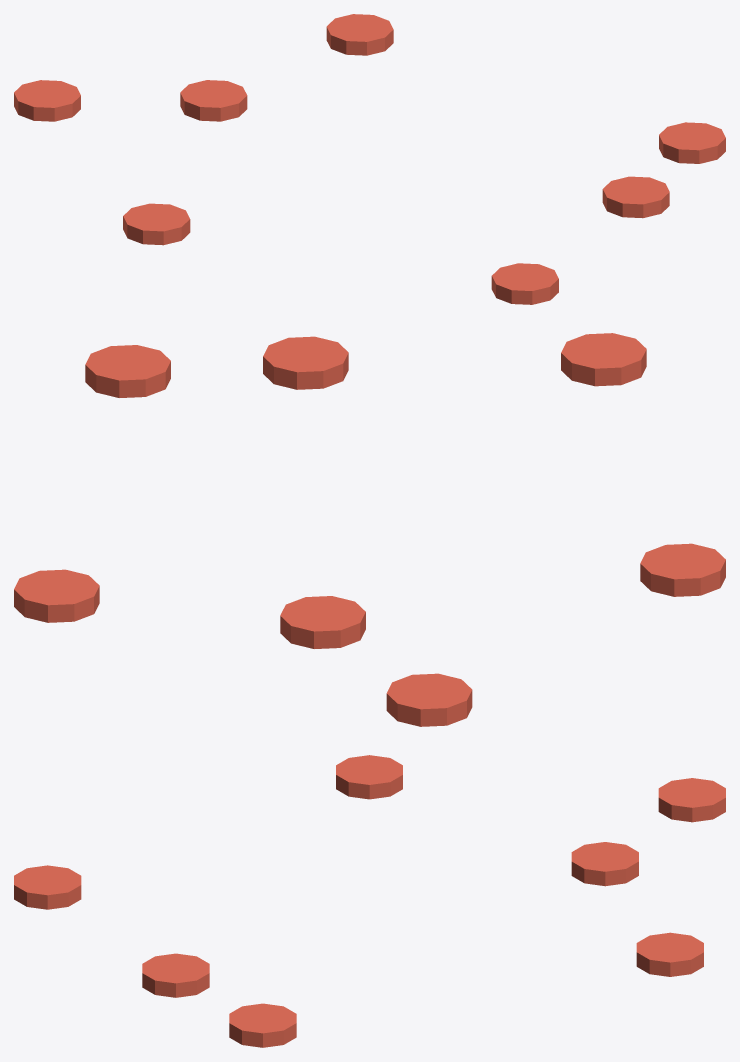
Rendered from sausage.glb.
3 renders of one model, top to bottom at view 1: azimuth 30°, elevation 25°; view 2: azimuth 150°, elevation 25°; view 3: azimuth 270°, elevation 25°, orthographic. The views are drawn at different scales.
Parts seen in each view (by area): view 1: Sausage_SausageMat_0, Sausage_SausageMat_0.003, Sausage_SausageMat_0.004, Sausage_SausageMat_0.002, Sausage_SausageMat_0.005, Sausage_SausageMat_0.006, Sausage_SausageMat_0.001; view 2: Sausage_SausageMat_0.006, Sausage_SausageMat_0, Sausage_SausageMat_0.002, Sausage_SausageMat_0.005, Sausage_SausageMat_0.003, Sausage_SausageMat_0.004, Sausage_SausageMat_0.001; view 3: Sausage_SausageMat_0.002, Sausage_SausageMat_0.001, Sausage_SausageMat_0.003, Sausage_SausageMat_0, Sausage_SausageMat_0.006, Sausage_SausageMat_0.004, Sausage_SausageMat_0.005.
Part boxes in pixels (x1,y1,x2,y2): Sausage_SausageMat_0: (491, 263, 558, 304); Sausage_SausageMat_0.003: (326, 14, 393, 55); Sausage_SausageMat_0.004: (180, 80, 247, 121); Sausage_SausageMat_0.002: (602, 176, 669, 218); Sausage_SausageMat_0.005: (123, 203, 190, 245); Sausage_SausageMat_0.006: (14, 80, 80, 121); Sausage_SausageMat_0.001: (659, 122, 725, 163); Sausage_SausageMat_0.006: (386, 673, 472, 726); Sausage_SausageMat_0: (561, 333, 646, 386); Sausage_SausageMat_0.002: (263, 336, 348, 389); Sausage_SausageMat_0.005: (640, 543, 725, 596); Sausage_SausageMat_0.003: (14, 569, 99, 622); Sausage_SausageMat_0.004: (280, 596, 365, 648); Sausage_SausageMat_0.001: (85, 345, 170, 397); Sausage_SausageMat_0.002: (142, 953, 209, 997); Sausage_SausageMat_0.001: (229, 1003, 296, 1047); Sausage_SausageMat_0.003: (636, 932, 703, 976); Sausage_SausageMat_0: (14, 865, 81, 909); Sausage_SausageMat_0.006: (658, 778, 725, 822); Sausage_SausageMat_0.004: (571, 842, 638, 886); Sausage_SausageMat_0.005: (336, 755, 402, 799).
Size of the model in its own units: 1.39 by 0.0337 by 1.5.
